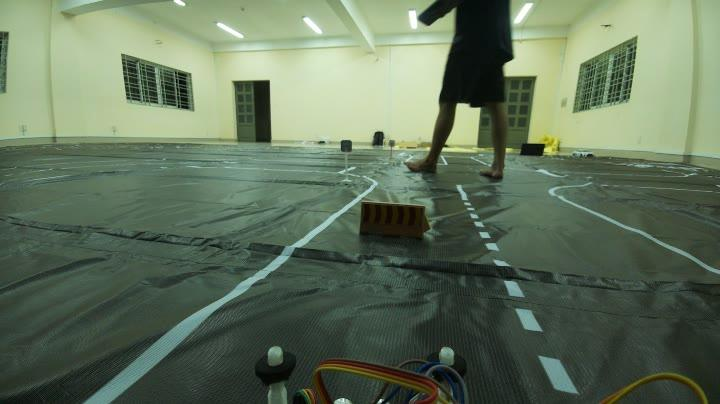roadblock: (349, 193, 437, 258)
